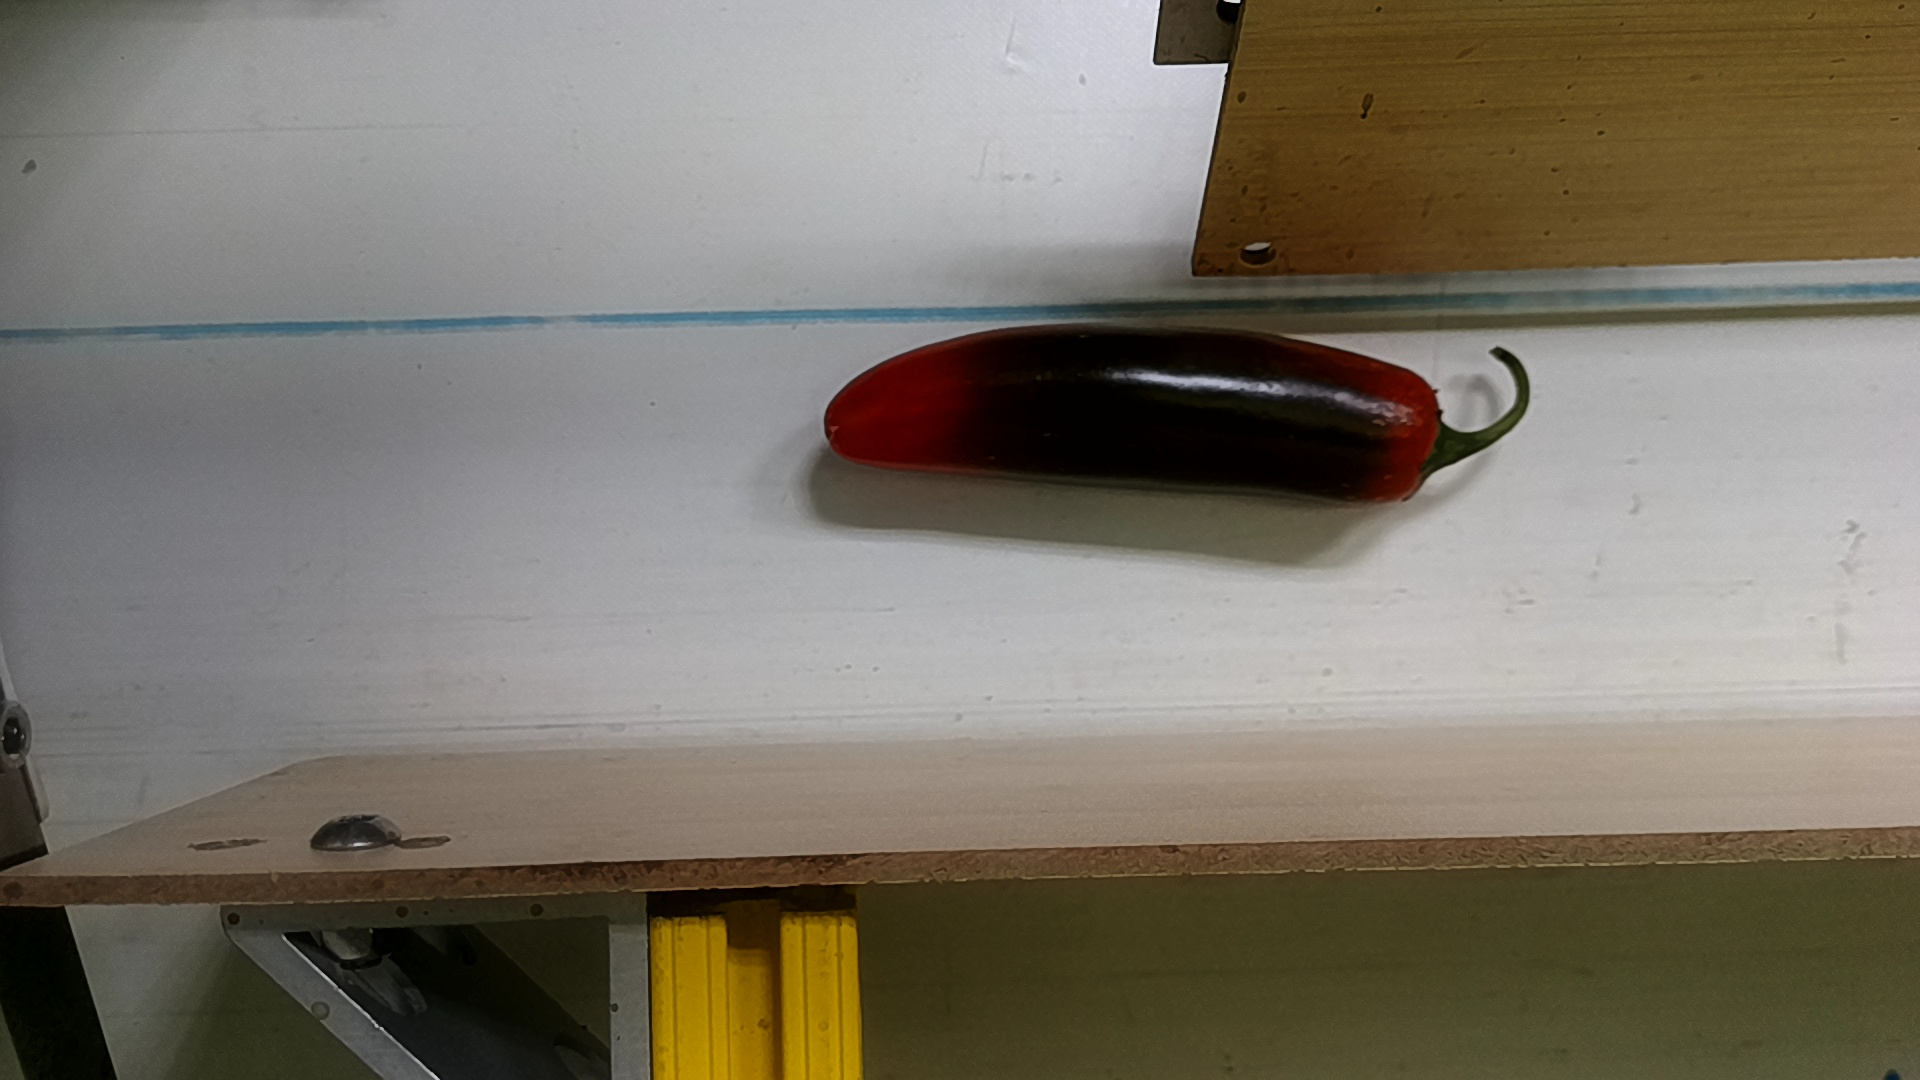Cut Point: (1381, 357, 1464, 506)
